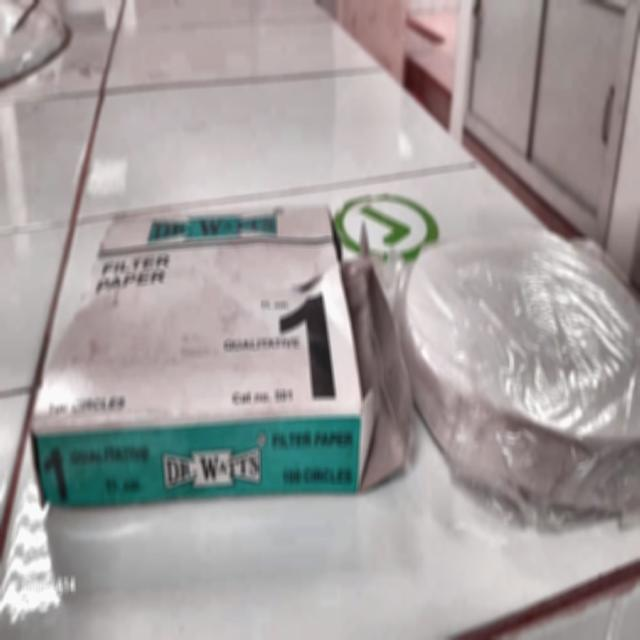Filter paper: (66, 209, 634, 521)
